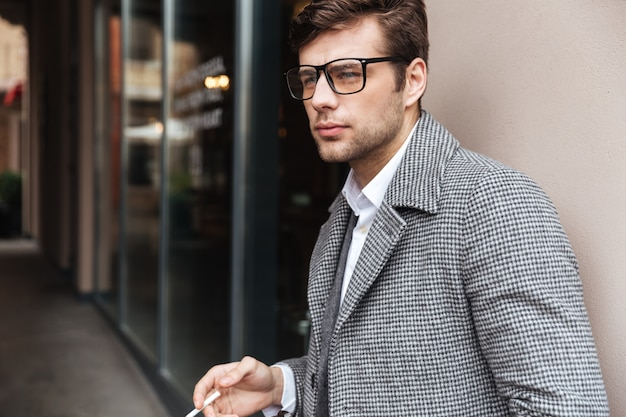cigarette: (185, 391, 222, 417)
